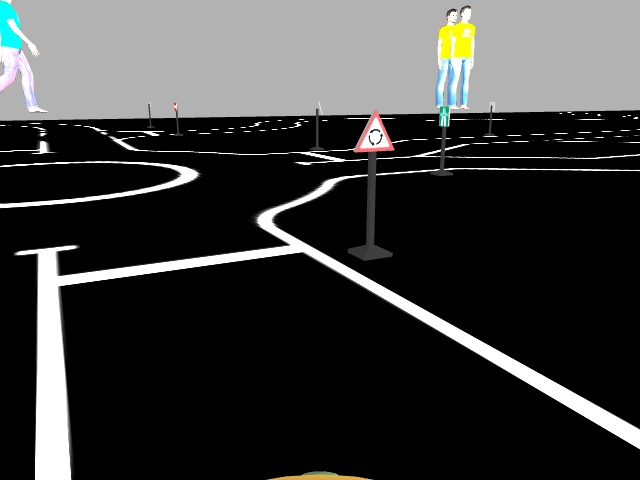HighwayEntrance: (437, 103, 451, 127)
Roundabout: (348, 108, 396, 152)
